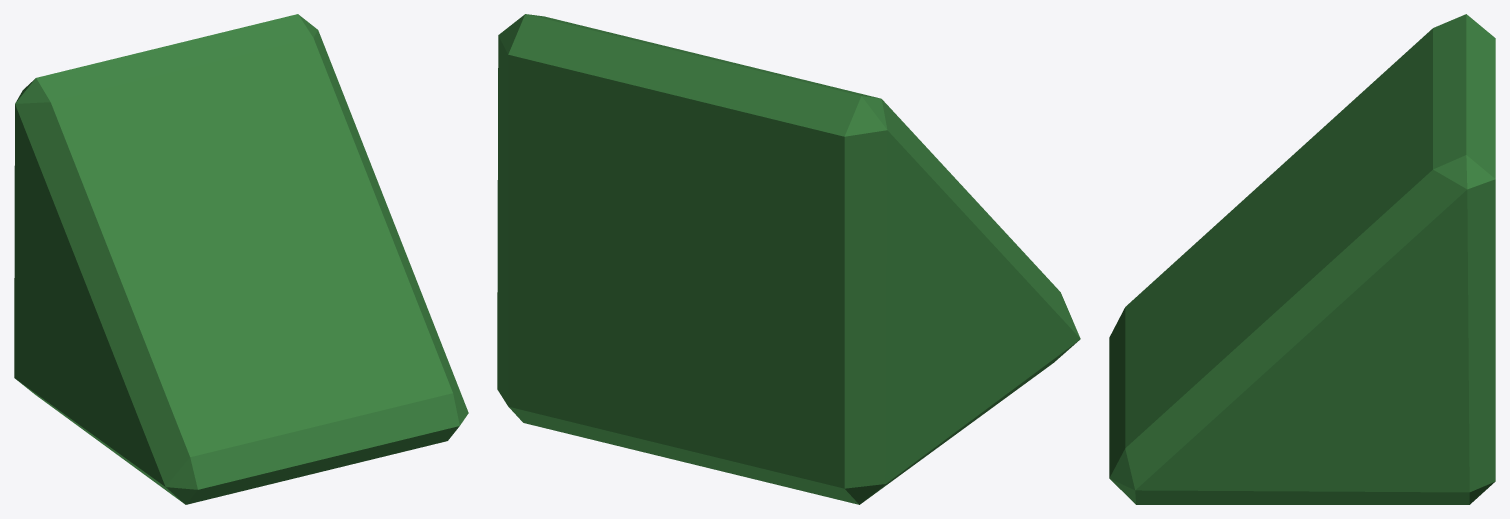
Rendered from m_kub_dung_diagonal_straight.fbx.
The picture shows the model from 3 angles, left to right: view 1: azimuth 30°, elevation 25°; view 2: azimuth 150°, elevation 25°; view 3: azimuth 270°, elevation 25°; orthographic projection. The views are drawn at different scales.
Visible parts, largest first — view 1: m_kub_dung_diagonal_straight; view 2: m_kub_dung_diagonal_straight; view 3: m_kub_dung_diagonal_straight.
Boxes of the visible parts, x1=… form: m_kub_dung_diagonal_straight: x1=14, y1=14, x2=468, y2=504; m_kub_dung_diagonal_straight: x1=497, y1=14, x2=1080, y2=504; m_kub_dung_diagonal_straight: x1=1109, y1=14, x2=1495, y2=504.
Size of the model in its own units: 2.15 by 2.15 by 2.15.
